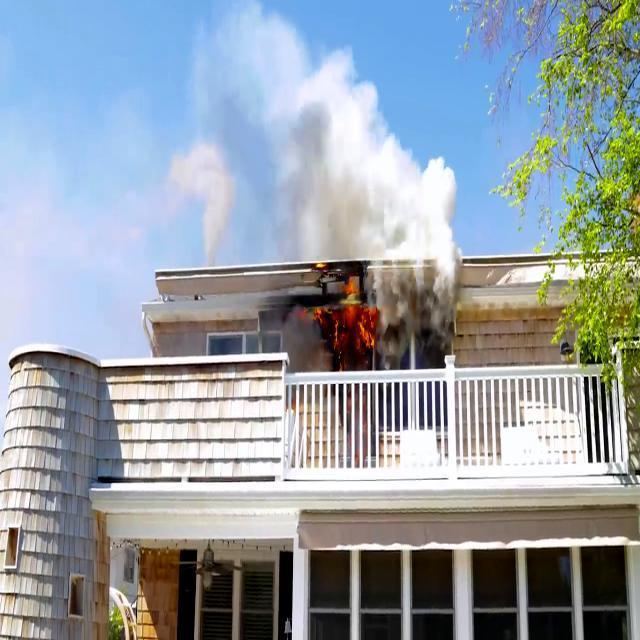Fire: (321, 278, 386, 359)
Smoke: (179, 23, 473, 296), (367, 130, 472, 358), (271, 300, 328, 386)
